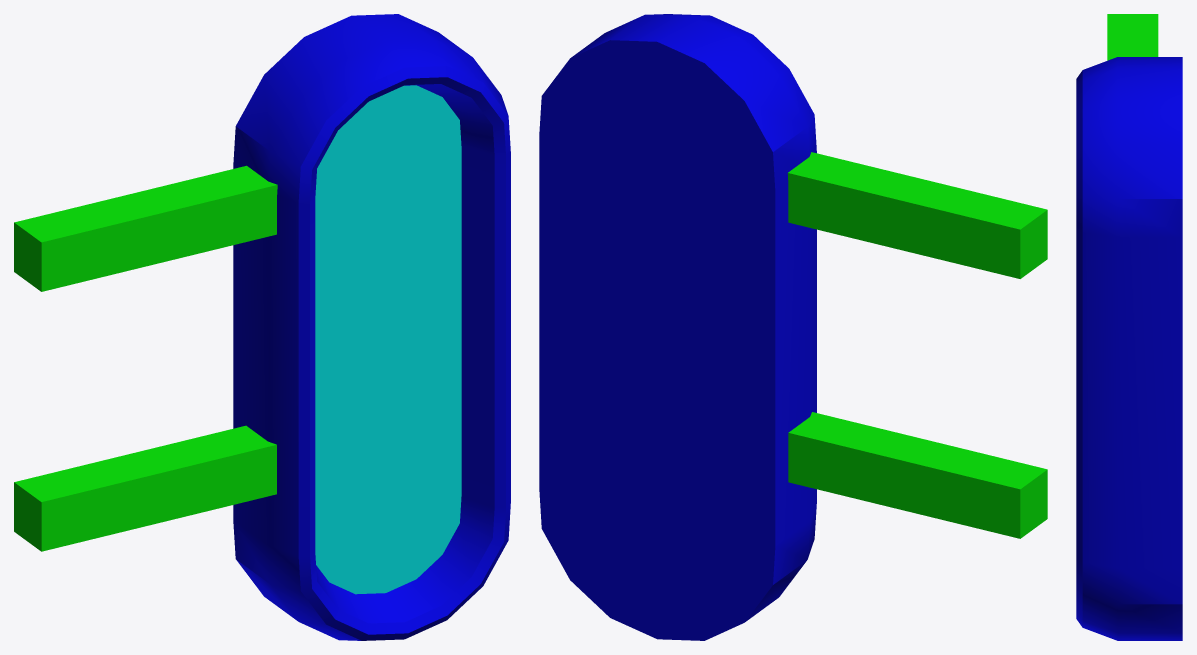
Rendered from Banner01.fbx.
The picture shows the model from 3 angles, left to right: view 1: azimuth 30°, elevation 25°; view 2: azimuth 150°, elevation 25°; view 3: azimuth 270°, elevation 25°; orthographic projection. The views are drawn at different scales.
Visible parts, largest first — view 1: polySurface252, polySurface250, polySurface251; view 2: polySurface252, polySurface250, polySurface251; view 3: polySurface252, polySurface250.
Boxes of the visible parts, x1,y1,x2,y2 form: polySurface252: [233, 14, 510, 640]; polySurface250: [14, 165, 277, 291]; polySurface251: [14, 425, 276, 551]; polySurface252: [539, 14, 816, 640]; polySurface250: [787, 152, 1047, 278]; polySurface251: [788, 412, 1047, 538]; polySurface252: [1076, 57, 1182, 640]; polySurface250: [1107, 14, 1158, 60].
Size of the model in its own units: 144 by 176 by 30.28.
